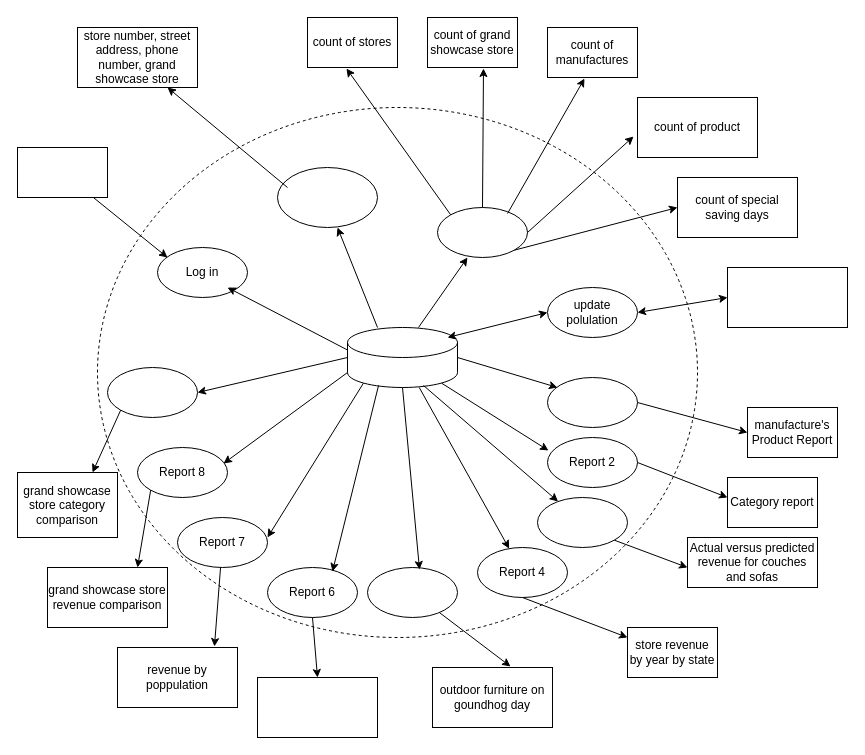
This 865x755 diagram has some shape labels left out. Here are the shapes that lost their labels. From the top down, the centre of each, then its label:
pixel 62 172: login screen
pixel 327 197: second page/screen for manager users
pixel 482 232: main menu
pixel 787 297: update population in the system, through main menu
pixel 402 357: Databse
pixel 152 392: Report 9
pixel 592 402: Report 1
pixel 582 522: Report 3
pixel 412 592: Report 5
pixel 317 707: state with highest volume for each category
